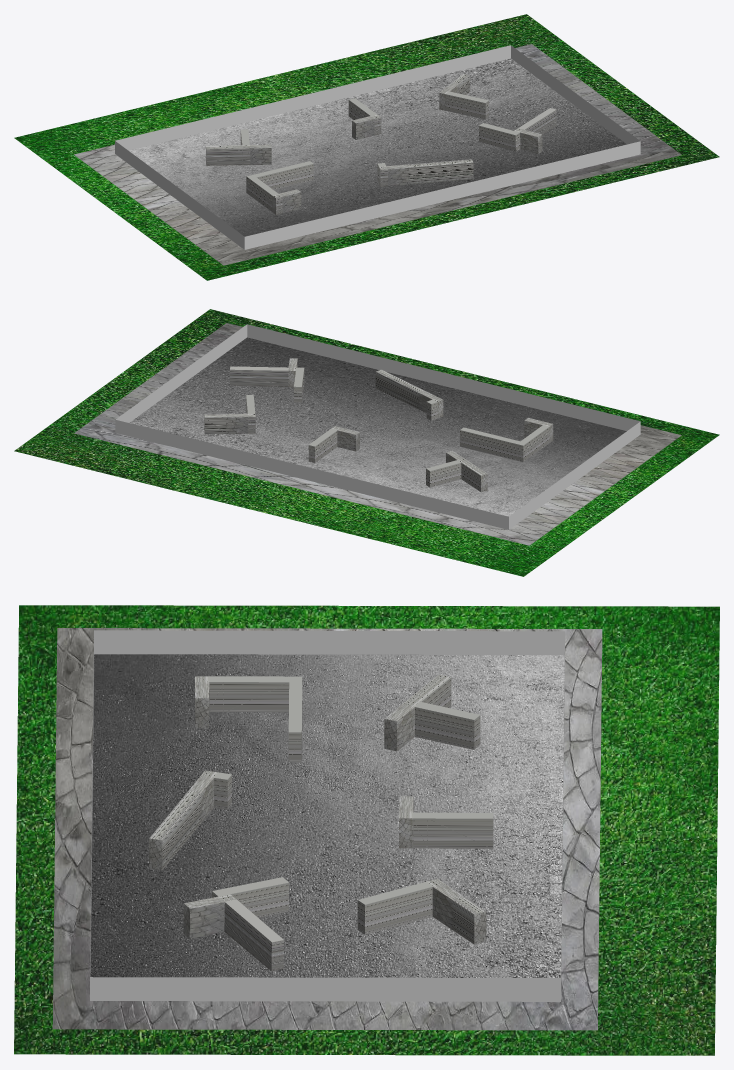
File: mapa.glb
3 views of the same model, one above another, from view 1: azimuth 30°, elevation 25°; view 2: azimuth 150°, elevation 25°; view 3: azimuth 270°, elevation 25° (orthographic). The views are drawn at different scales.
Parts seen in each view (by area): view 1: Plane, Plane.002, Plane.001, Cube.005, Cube.002, Cube.003, Cube.001, Cube.004, Cube; view 2: Plane, Plane.002, Plane.001, Cube.005, Cube.003, Cube.002, Cube.001, Cube.004, Cube; view 3: Plane, Plane.002, Plane.001, Cube.003, Cube.004, Cube.005, Cube.001, Cube, Cube.002.
Part boxes in pixels (bbox=[...]): Plane: bbox=[115, 45, 640, 249]; Plane.002: bbox=[14, 14, 719, 280]; Plane.001: bbox=[74, 44, 681, 265]; Cube.005: bbox=[246, 161, 313, 214]; Cube.002: bbox=[377, 159, 473, 186]; Cube.003: bbox=[479, 108, 556, 153]; Cube.001: bbox=[206, 129, 271, 165]; Cube.004: bbox=[439, 74, 488, 119]; Cube: bbox=[348, 98, 381, 139]; Plane: bbox=[115, 324, 640, 529]; Plane.002: bbox=[14, 309, 719, 576]; Plane.001: bbox=[74, 323, 681, 545]; Cube.005: bbox=[460, 417, 553, 461]; Cube.003: bbox=[230, 358, 304, 402]; Cube.002: bbox=[375, 369, 443, 420]; Cube.001: bbox=[426, 450, 487, 492]; Cube.004: bbox=[204, 395, 255, 434]; Cube: bbox=[308, 426, 359, 462]; Plane: bbox=[90, 630, 564, 1001]; Plane.002: bbox=[14, 605, 719, 1055]; Plane.001: bbox=[52, 628, 602, 1030]; Cube.003: bbox=[183, 877, 289, 971]; Cube.004: bbox=[357, 878, 486, 944]; Cube.005: bbox=[195, 676, 302, 762]; Cube.001: bbox=[384, 674, 480, 751]; Cube: bbox=[399, 796, 493, 848]; Cube.002: bbox=[149, 770, 231, 870].
Bounding box in the file's own units: 81.21 × 2.75 × 53.77.
Materials: 6 (5 with a texture image).
